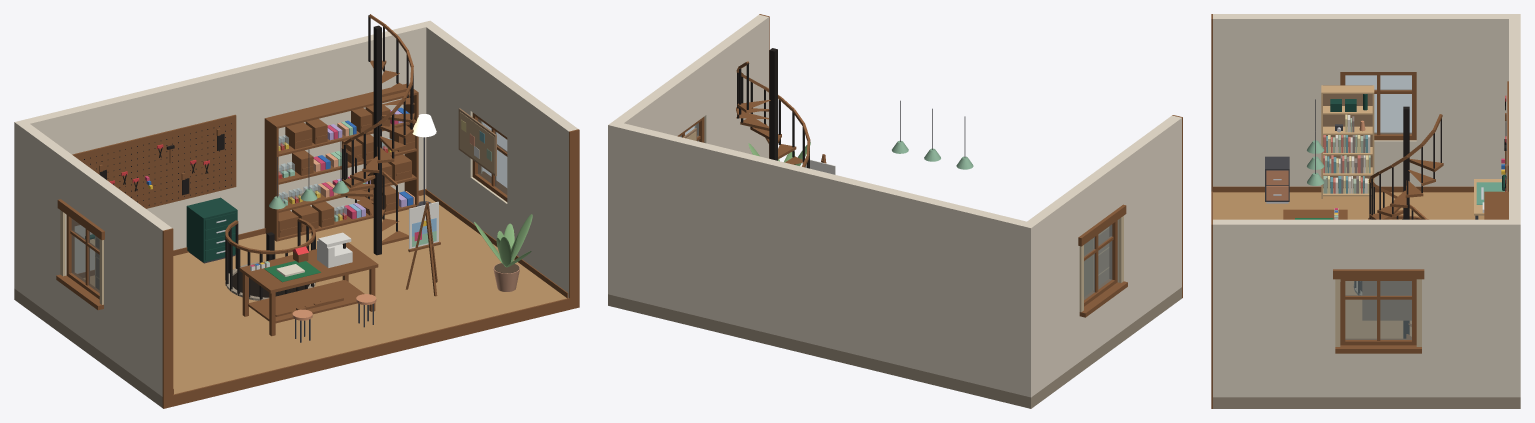
The model's file is map-workshop.glb.
3 renders of one model, left to right at view 1: azimuth 30°, elevation 25°; view 2: azimuth 150°, elevation 25°; view 3: azimuth 270°, elevation 25°, orthographic. The views are drawn at different scales.
Parts seen in each view (by area): view 1: Walls, Floor_Slab, Material_Shelf, Tool_Wall, Craft_Table, Stair_Up, Plan_Chest, Stairwell_Down, Windows_Glass, Plant_Living, Easel, Pinboard (+1 smaller); view 2: Walls, Floor_Slab, Stair_Up, Windows_Glass, Reference_Shelf; view 3: Walls, Floor_Slab, Reference_Shelf, Windows_Glass, Stair_Up, Pinboard, File_Cabinet, Workbench, Material_Shelf, Craft_Table, Tool_Wall.
Part boxes in pixels (x1=…): Walls: x1=14, y1=20, x2=579, y2=408; Floor_Slab: x1=14, y1=194, x2=566, y2=407; Material_Shelf: x1=264, y1=83, x2=419, y2=241; Tool_Wall: x1=72, y1=114, x2=236, y2=225; Craft_Table: x1=239, y1=232, x2=378, y2=336; Stair_Up: x1=340, y1=14, x2=414, y2=255; Plan_Chest: x1=186, y1=197, x2=237, y2=263; Stairwell_Down: x1=225, y1=218, x2=315, y2=300; Windows_Glass: x1=71, y1=119, x2=507, y2=292; Plant_Living: x1=474, y1=214, x2=532, y2=291; Easel: x1=405, y1=201, x2=440, y2=296; Pinboard: x1=458, y1=108, x2=496, y2=176; Walls: x1=608, y1=14, x2=1182, y2=397; Floor_Slab: x1=608, y1=287, x2=1181, y2=408; Stair_Up: x1=736, y1=48, x2=810, y2=168; Windows_Glass: x1=680, y1=123, x2=1112, y2=299; Reference_Shelf: x1=1084, y1=227, x2=1109, y2=296; Walls: x1=1211, y1=14, x2=1520, y2=408; Floor_Slab: x1=1213, y1=192, x2=1520, y2=408; Reference_Shelf: x1=1321, y1=85, x2=1374, y2=198; Windows_Glass: x1=1345, y1=75, x2=1411, y2=339; Stair_Up: x1=1368, y1=106, x2=1443, y2=338; Pinboard: x1=1362, y1=281, x2=1411, y2=320; File_Cabinet: x1=1265, y1=156, x2=1289, y2=203; Workbench: x1=1474, y1=174, x2=1507, y2=219; Material_Shelf: x1=1484, y1=191, x2=1508, y2=219; Craft_Table: x1=1283, y1=208, x2=1347, y2=219; Tool_Wall: x1=1501, y1=81, x2=1508, y2=191.
Size of the model in its own units: 8.74 by 4.64 by 5.28.
